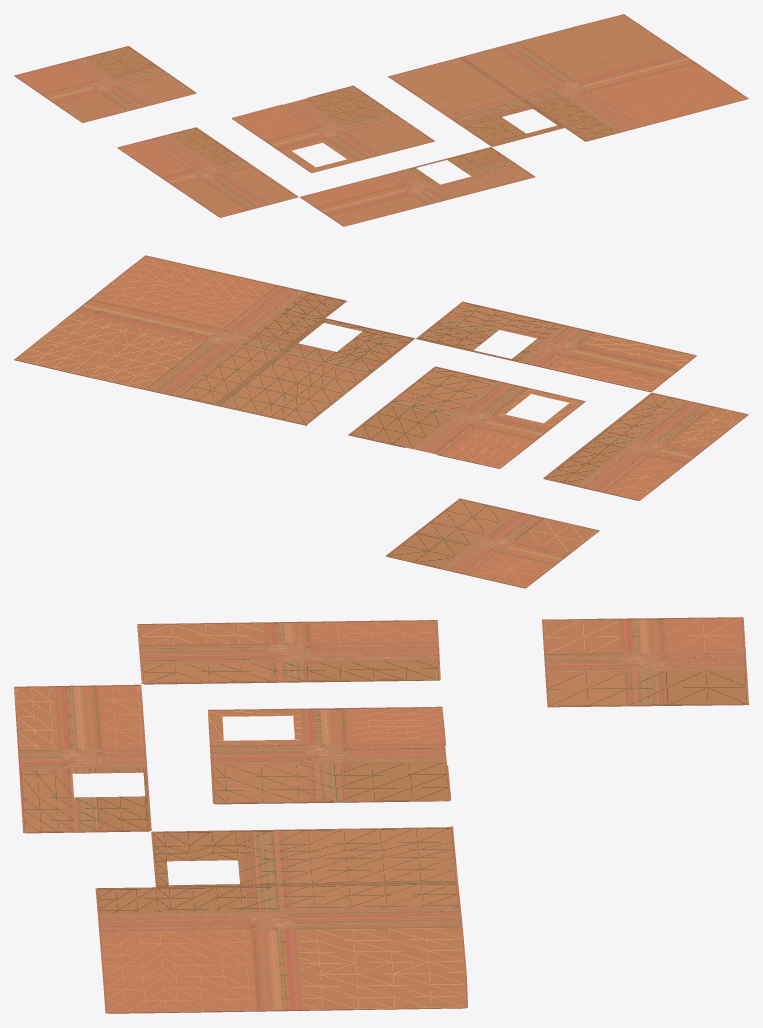
The model's file is objects_un_t09floor03.gltf.
3 renders of one model, top to bottom at view 1: azimuth 30°, elevation 25°; view 2: azimuth 150°, elevation 25°; view 3: azimuth 270°, elevation 25°, orthographic. The views are drawn at different scales.
Visible parts, largest first — view 1: um_objects_un_t09floor03_model_lod0Shape:objects_un_t09floor; view 2: um_objects_un_t09floor03_model_lod0Shape:objects_un_t09floor; view 3: um_objects_un_t09floor03_model_lod0Shape:objects_un_t09floor.
Part boxes in pixels (bbox=[...]): um_objects_un_t09floor03_model_lod0Shape:objects_un_t09floor: bbox=[14, 14, 748, 226]; um_objects_un_t09floor03_model_lod0Shape:objects_un_t09floor: bbox=[14, 255, 748, 588]; um_objects_un_t09floor03_model_lod0Shape:objects_un_t09floor: bbox=[14, 617, 748, 1013].
Size of what is drawn, in the model's own units: 141 by 0.0995 by 110.
1 material, 1 textured.
